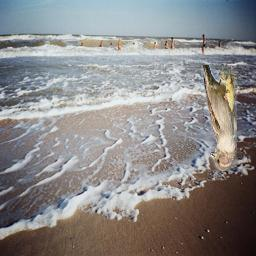Sparrow: (201, 65, 237, 171)
